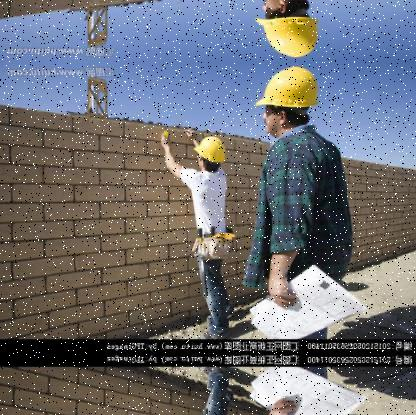helmet: (252, 62, 324, 141), (251, 0, 324, 61), (195, 132, 228, 173)
